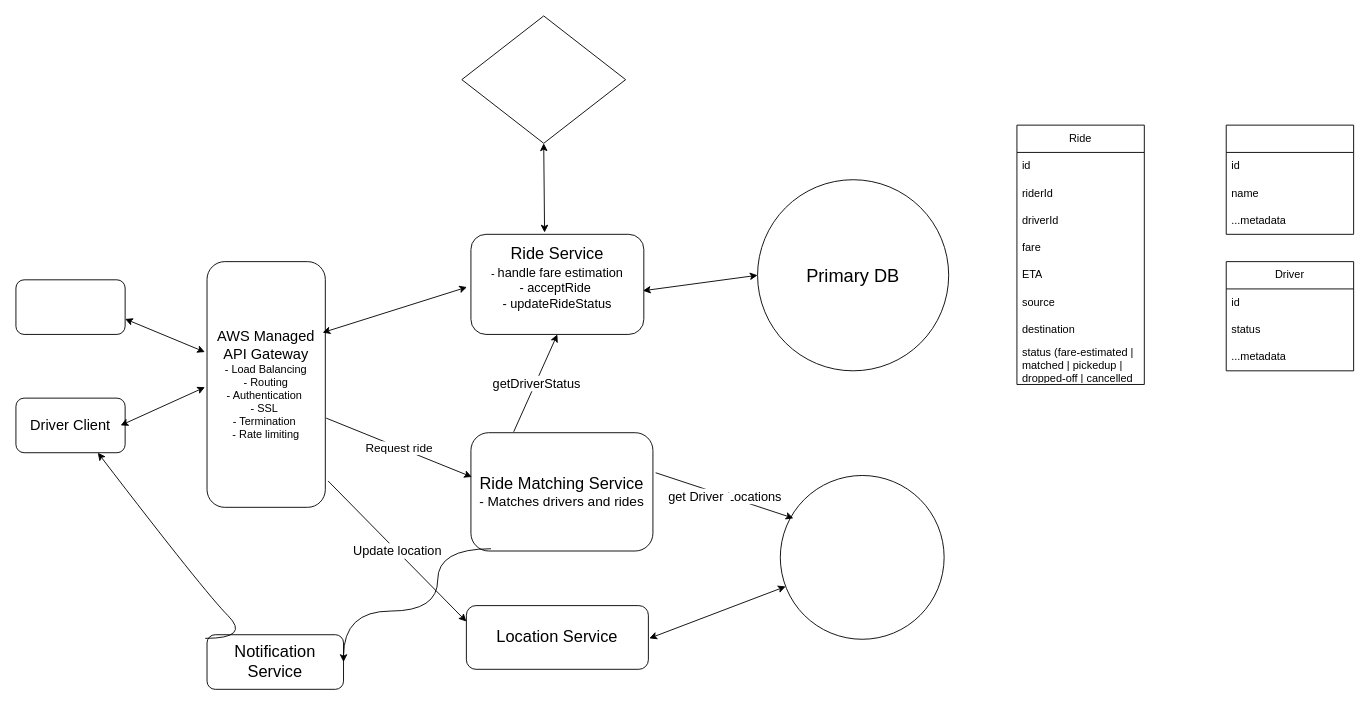
The diagram is 1370 pixels wide and 705 high, and some of its shapes have lost their labels. Each missing label, with the box of its shape:
3rd Party Mapping service: (461, 15, 626, 143)
Location DB - to store the location of drivers: (779, 475, 944, 639)
Rider: (1225, 124, 1354, 234)
Rider Client: (15, 279, 125, 334)
